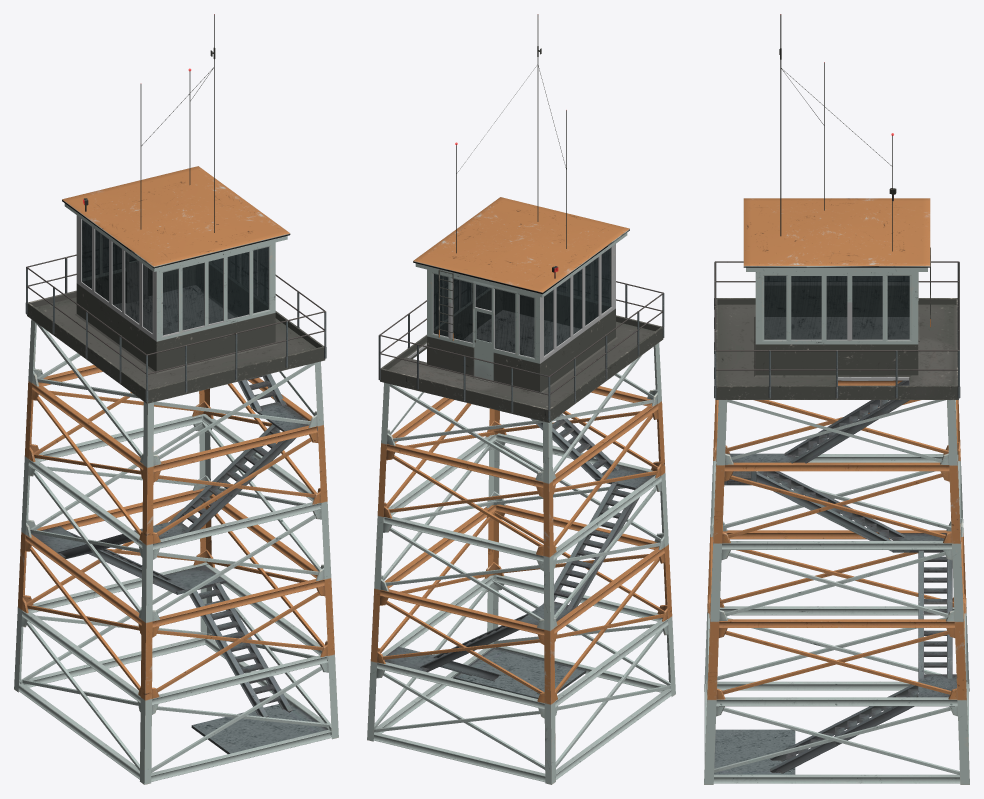
File: wwii_tower.glb
3 renders of one model, left to right at view 1: azimuth 30°, elevation 25°; view 2: azimuth 150°, elevation 25°; view 3: azimuth 270°, elevation 25°, orthographic. The views are drawn at different scales.
Parts seen in each view (by area): view 1: g (×57); view 2: g (×54); view 3: g (×50).
Boxes of the visible parts, <box> form: g (×57): <box>14,166,338,784</box>; g (×54): <box>367,197,675,784</box>; g (×50): <box>704,198,969,784</box>.
Size of the model in its own units: 4.85 by 17.09 by 5.66.
Materials: 5 (5 with a texture image).
